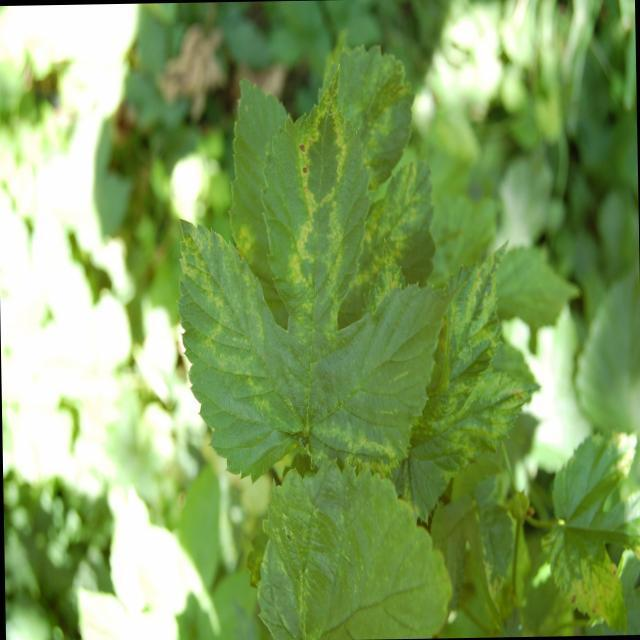Mosaic Virus: (278, 83, 358, 343), (182, 233, 284, 429), (432, 257, 519, 475)
